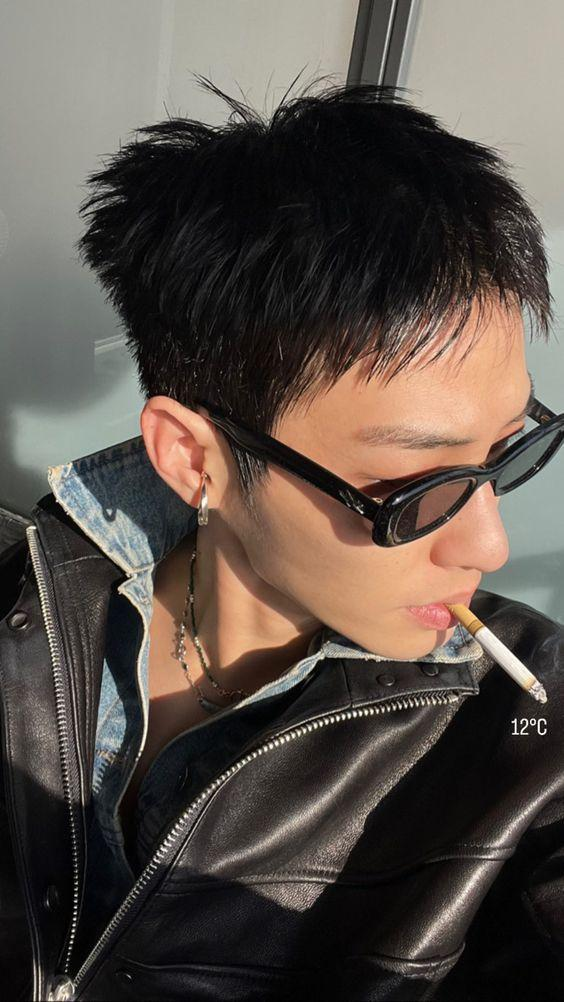cigarette: (448, 605, 546, 702)
